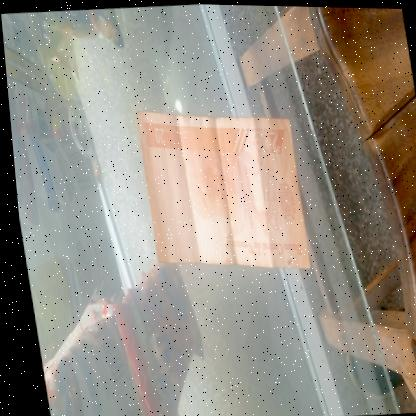twenty-back-vef: (131, 99, 310, 278)
